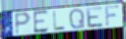E: (33, 9, 50, 35), (86, 6, 105, 29)
F: (104, 4, 120, 28)
L: (52, 10, 66, 32)
P: (14, 11, 32, 36)
Q: (69, 7, 86, 30)
